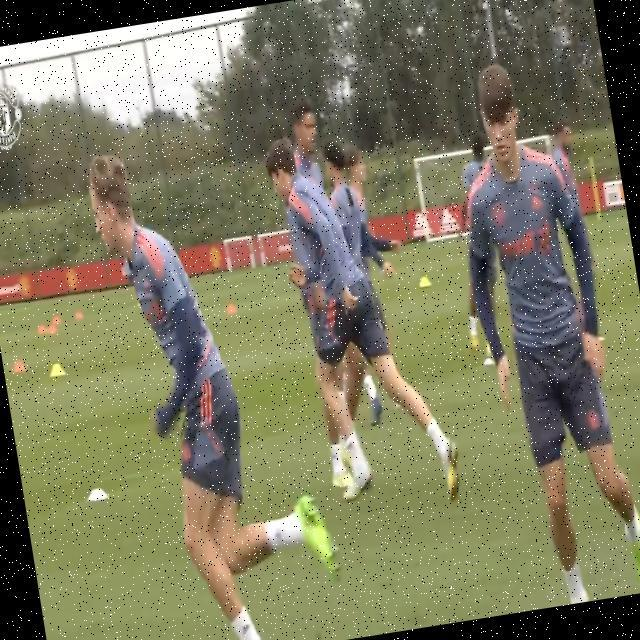Adidas: (436, 203, 460, 237), (411, 211, 436, 239)
